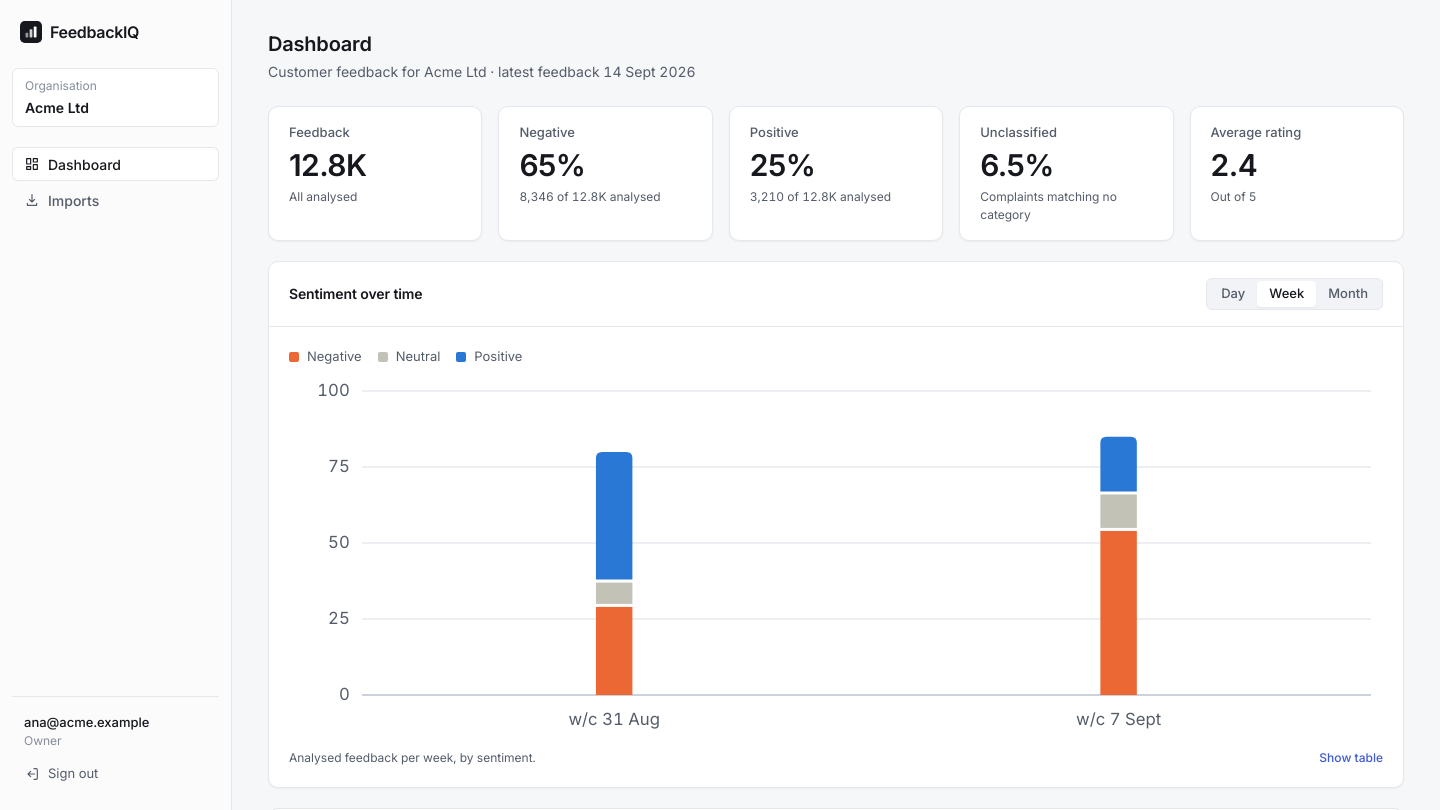
Test: trend and categories › groups the trend by week, and asks the API again when another grouping is chosen
This screenshot has width=1440, height=810.
Expected: the heading "Dashboard" is shown, [268,32,372,56]
Expected: the picture named "Sentiment over time" is shown, [289,378,1383,737]
What coordinates should you click on to do the following:
click the button "Month"
I would click on:
 (1348, 294)
Its box is [1316,281,1380,307].
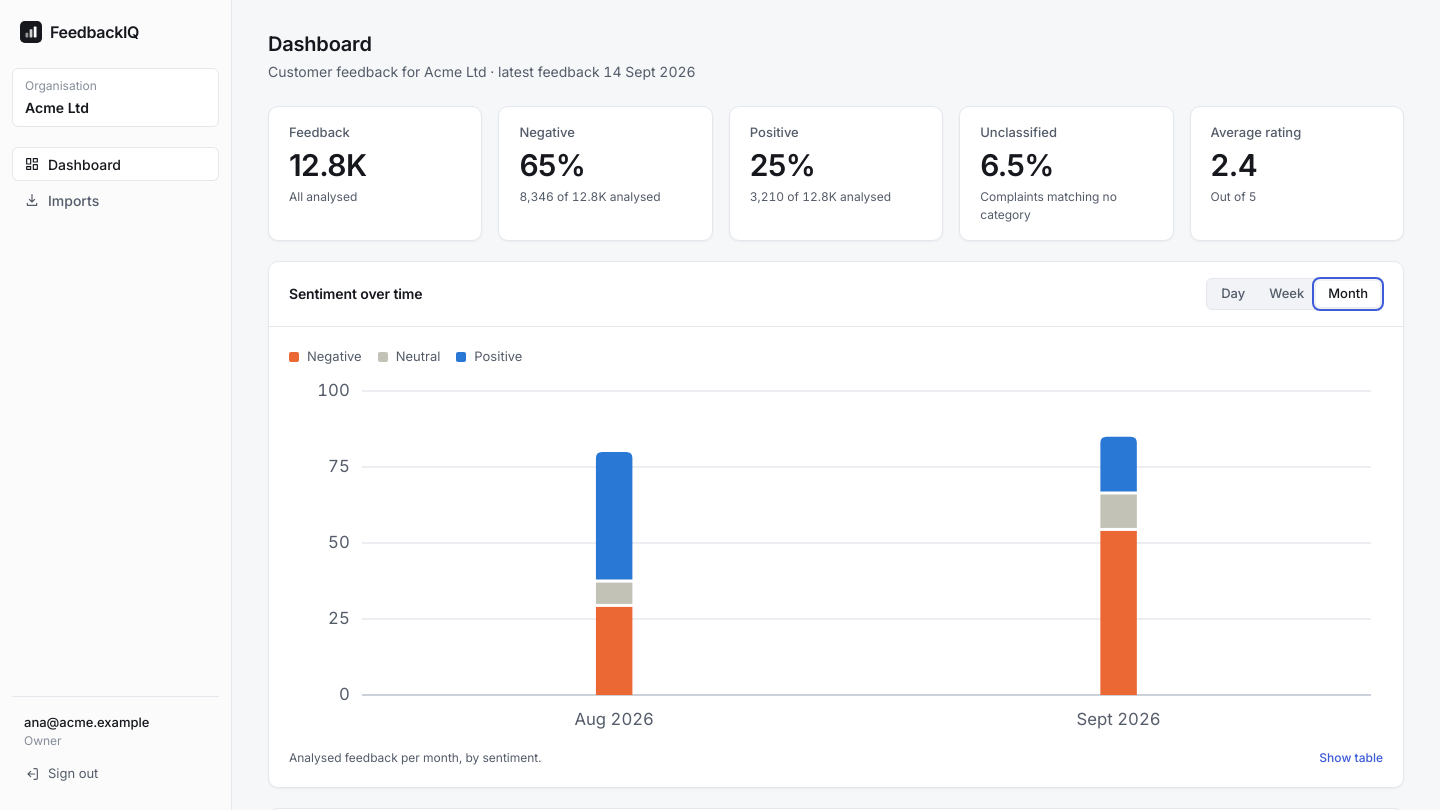
Result: the text "Analysed feedback per month, by sentiment." is shown at [289,749,542,767]
